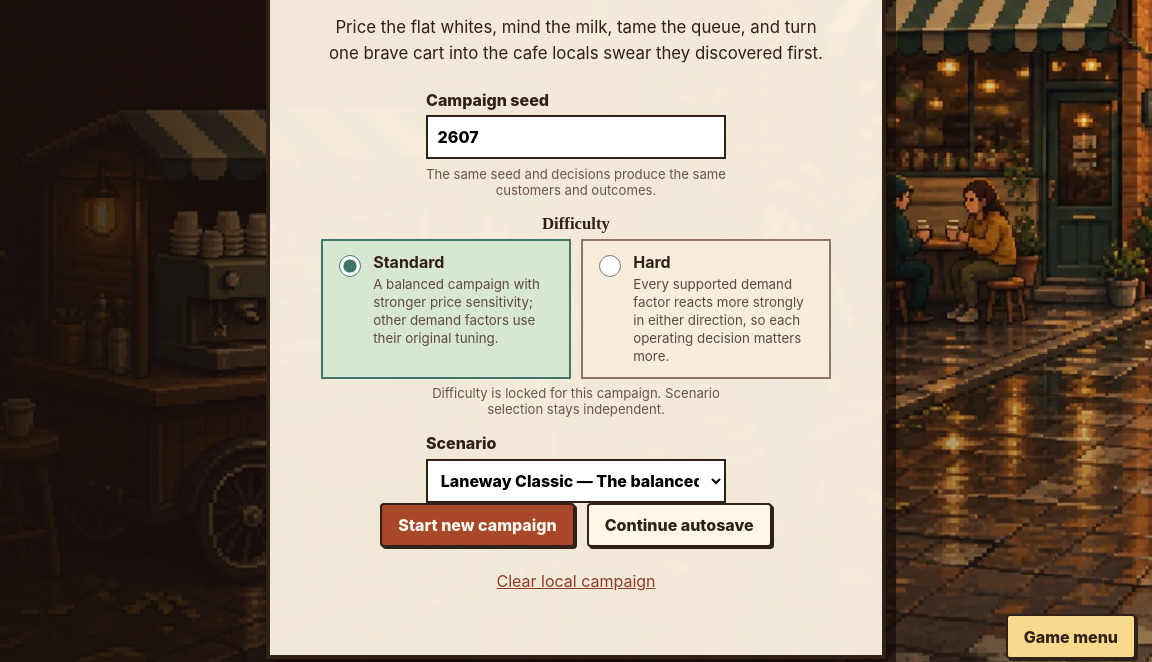
Test case: onboarding and accessible interaction › provides reduced-motion parity for queue, counter, sale, and walkaway evidence
This screenshot has width=1152, height=662.
(page scrolled)
Click the button "Continue autosave" at (679, 525), box [587,503,772,548]
(page scrolled)
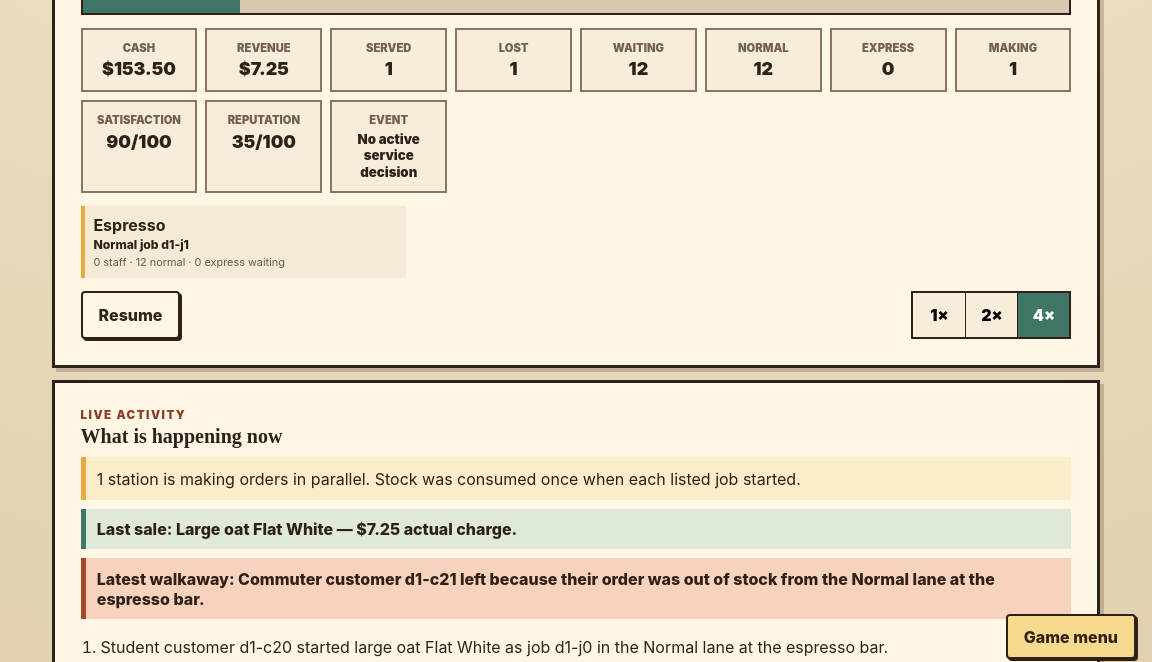
Now the list named "Recent rush activity" shows "started large oat Flat White as job d1-j0 in the Normal lane at the espresso bar", box [101,637,888,657]
Now the element named "Service speed" is shown, box [911,291,1071,339]
